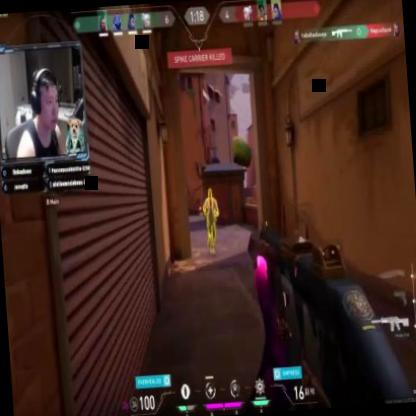enemy: (201, 187, 222, 255)
enemy_head: (207, 188, 213, 199)
